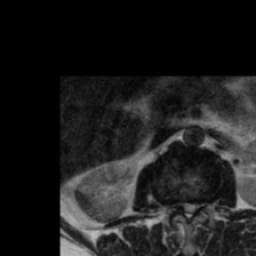CCS_normal: (184, 195, 191, 227)
LFS_severe_stenosis: (198, 191, 206, 215)
LLS_stenosis: (191, 195, 198, 216)
RFS_severe_stenosis: (170, 191, 177, 214)
RLS_severe_stenosis: (177, 193, 184, 215)
